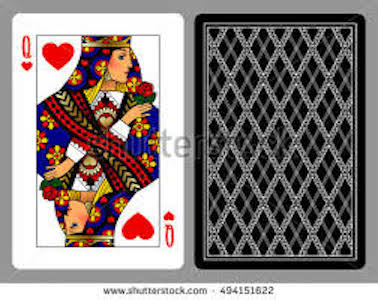QueenOfHearts: (5, 7, 190, 275)
